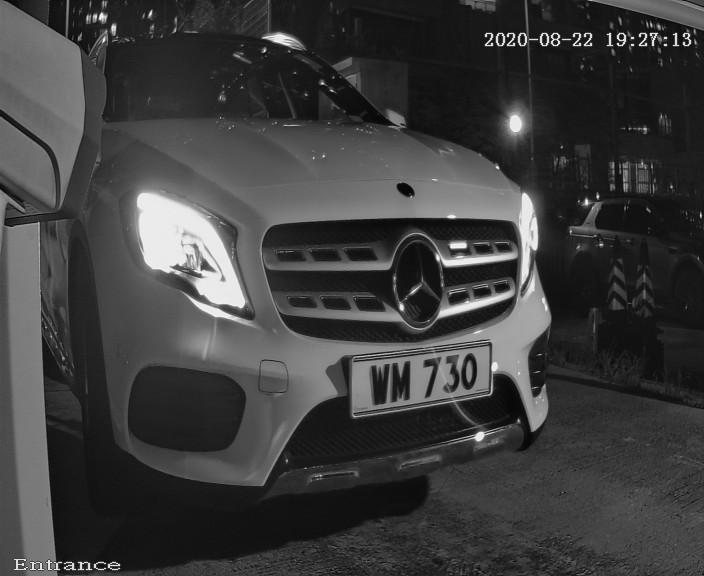License Plate: (320, 325, 537, 437)
